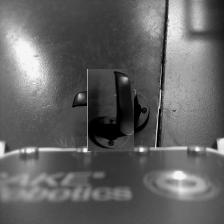Door Handle: (79, 78, 143, 143)
